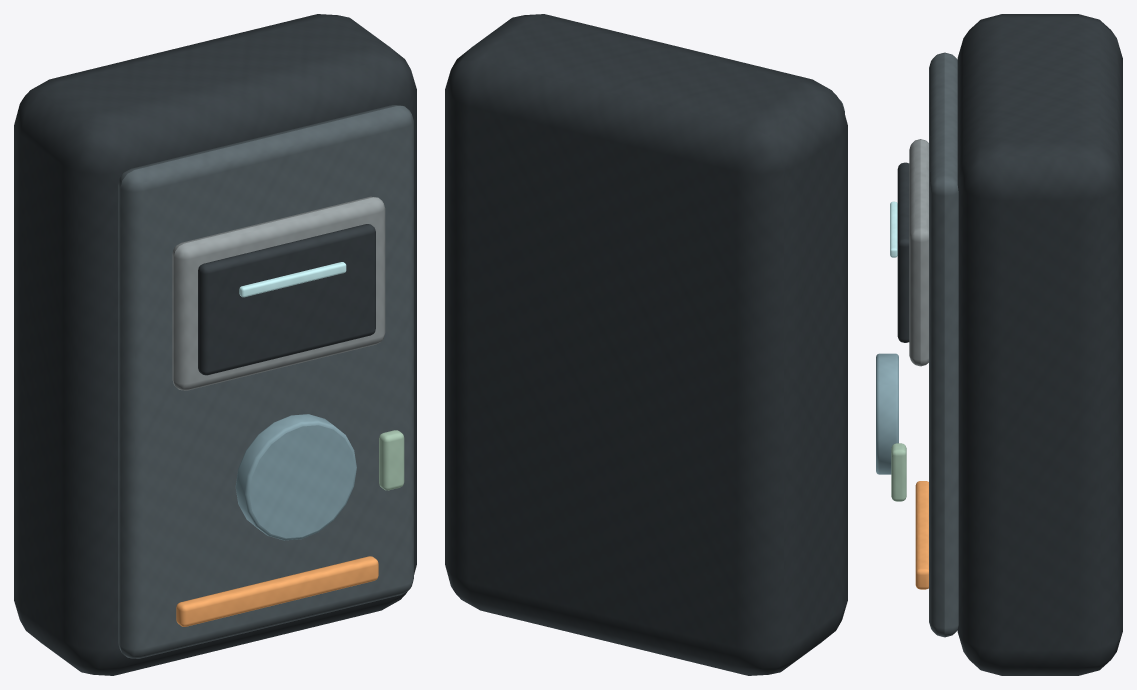
Rendered from AccessReader.glb.
3 renders of one model, left to right at view 1: azimuth 30°, elevation 25°; view 2: azimuth 150°, elevation 25°; view 3: azimuth 270°, elevation 25°, orthographic. The views are drawn at different scales.
Parts seen in each view (by area): view 1: AccessReader_Mesh; view 2: AccessReader_Mesh; view 3: AccessReader_Mesh.
Part boxes in pixels (<box>): AccessReader_Mesh: <box>14,14,416,675</box>; AccessReader_Mesh: <box>445,14,847,675</box>; AccessReader_Mesh: <box>876,14,1122,675</box>.
Size of the model in its own units: 0.3 by 0.46 by 0.194.
7 materials, 7 textured.
